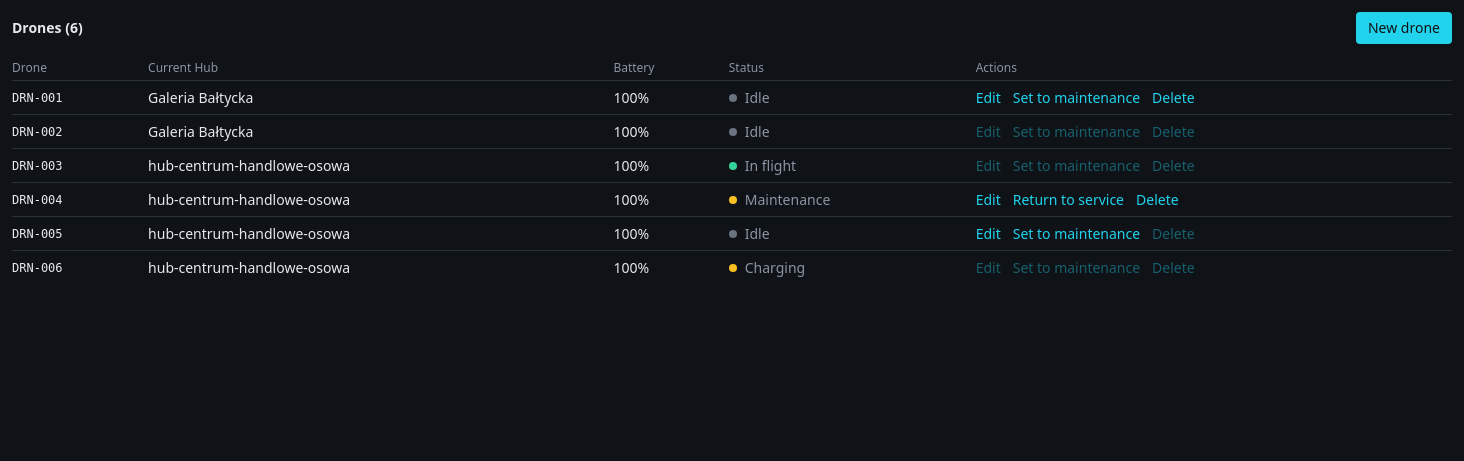
Test: DronesManager › asks only for the initial Hub when creating, and sends only the Hub
Later steps or results of the test are not shown.
Click the button "New drone". click: (1404, 28)
box: [1356,12,1452,44]
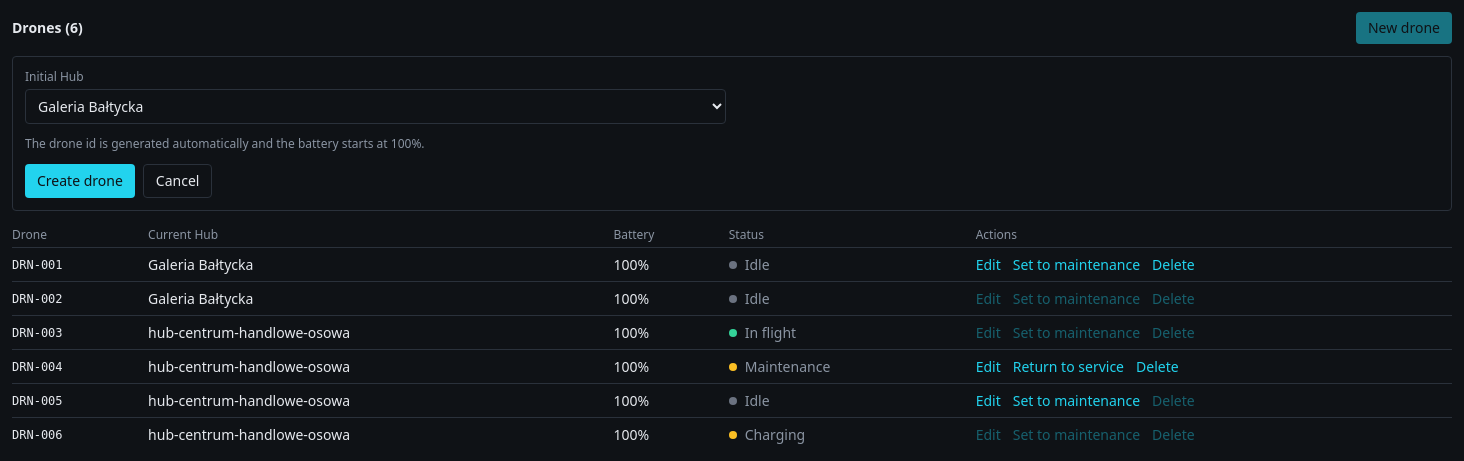
Expected: the text "generated automatically and the battery starts at 100%" is shown, [25,135,425,152]
